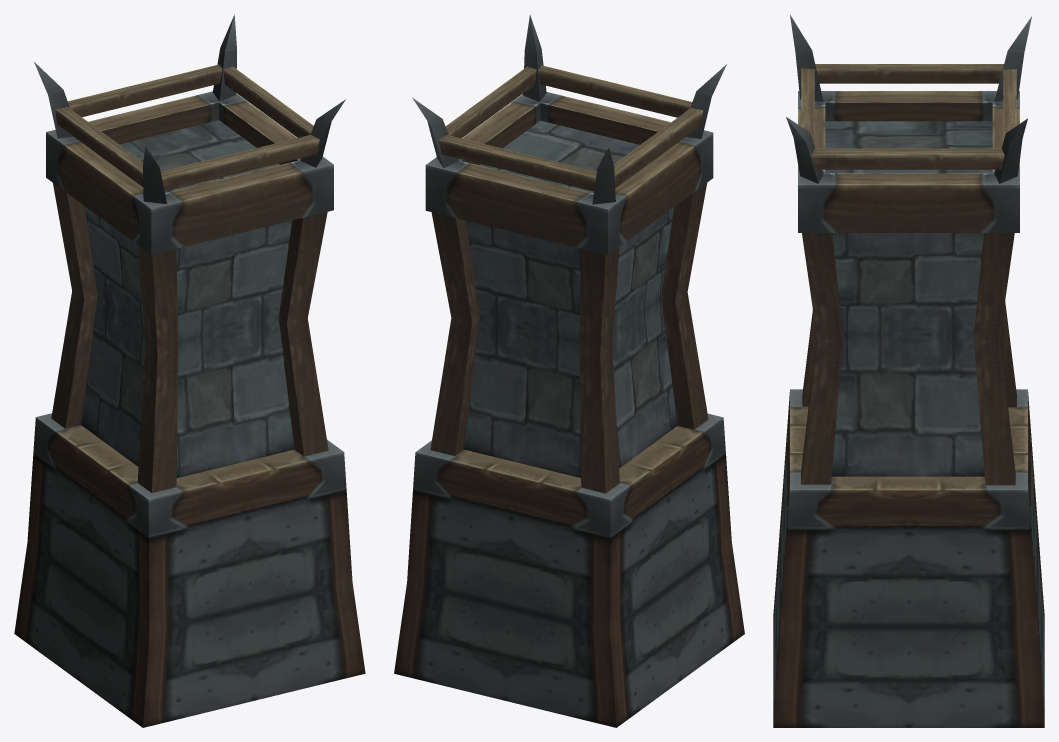
The model's file is hacz_chengqiang_01.FBX.
3 views of the same model, side by side, from view 1: azimuth 30°, elevation 25°; view 2: azimuth 150°, elevation 25°; view 3: azimuth 270°, elevation 25° (orthographic). The views are drawn at different scales.
Visible parts, largest first — view 1: hasl_chengqiang_01; view 2: hasl_chengqiang_01; view 3: hasl_chengqiang_01.
Part boxes in pixels (x1,y1,x2,y2): hasl_chengqiang_01: (14,14,365,727); hasl_chengqiang_01: (394,14,744,727); hasl_chengqiang_01: (773,15,1044,727).
Size of the model in its own units: 231 by 569 by 231.
